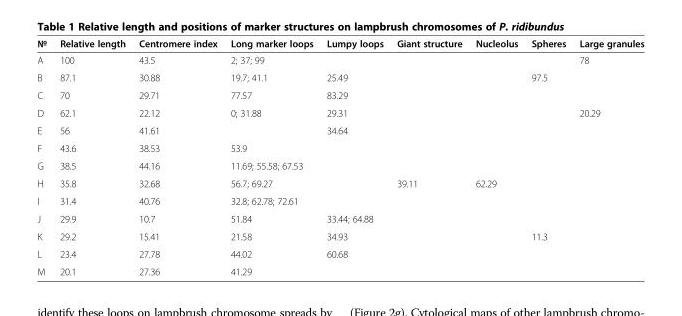table: (36, 36, 643, 276)
table column: (223, 36, 319, 276), (131, 36, 223, 276), (52, 36, 131, 276), (389, 36, 468, 276), (572, 36, 643, 276), (319, 36, 389, 276), (468, 36, 524, 276), (524, 36, 572, 276), (36, 36, 52, 276)
table column header: (36, 36, 643, 51)
table row: (36, 68, 643, 86), (36, 103, 643, 121), (36, 121, 643, 139), (36, 156, 643, 174), (36, 191, 643, 209), (36, 209, 643, 227), (36, 244, 643, 262), (36, 51, 643, 68), (36, 86, 643, 103), (36, 139, 643, 156), (36, 174, 643, 191), (36, 227, 643, 244), (36, 36, 643, 51), (36, 262, 643, 276)
